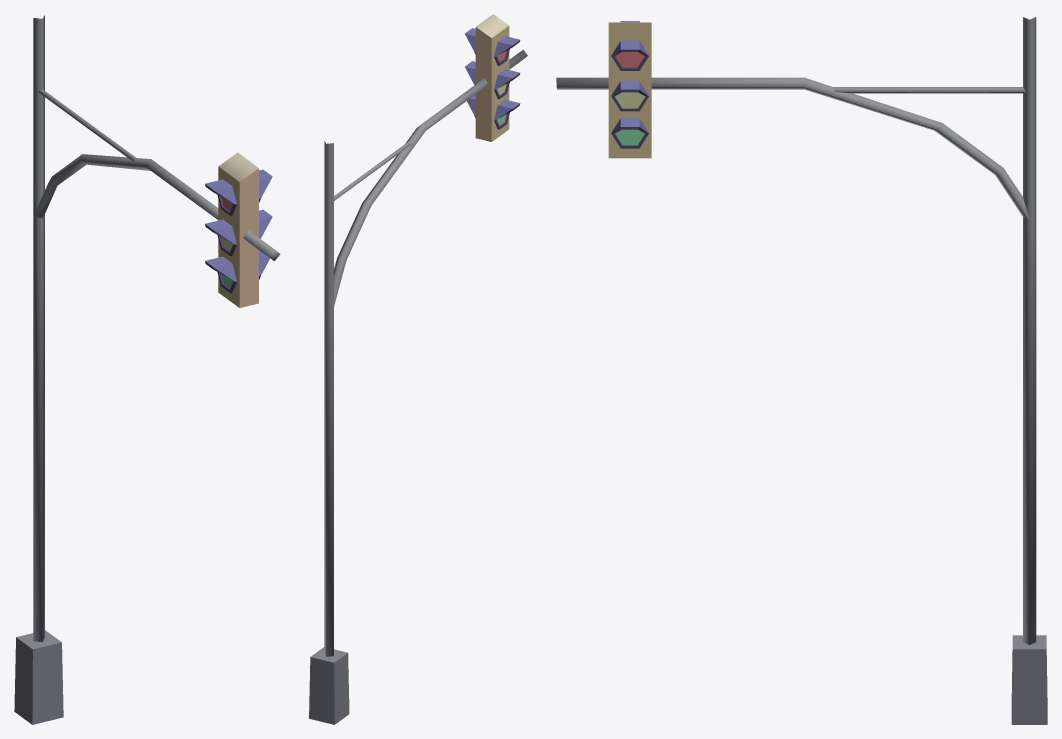
File: Prop_ligthpole_2.glb
The picture shows the model from 3 angles, left to right: view 1: azimuth 30°, elevation 25°; view 2: azimuth 150°, elevation 25°; view 3: azimuth 270°, elevation 25°; orthographic projection. The views are drawn at different scales.
Visible parts, largest first — view 1: Prop_ligthpole_2; view 2: Prop_ligthpole_2; view 3: Prop_ligthpole_2.
Boxes of the visible parts, x1,y1,x2,y2 form: Prop_ligthpole_2: (14, 15, 280, 724); Prop_ligthpole_2: (309, 14, 527, 724); Prop_ligthpole_2: (556, 17, 1047, 724).
Size of the model in its own units: 0.1168 by 1.34 by 0.8493.
